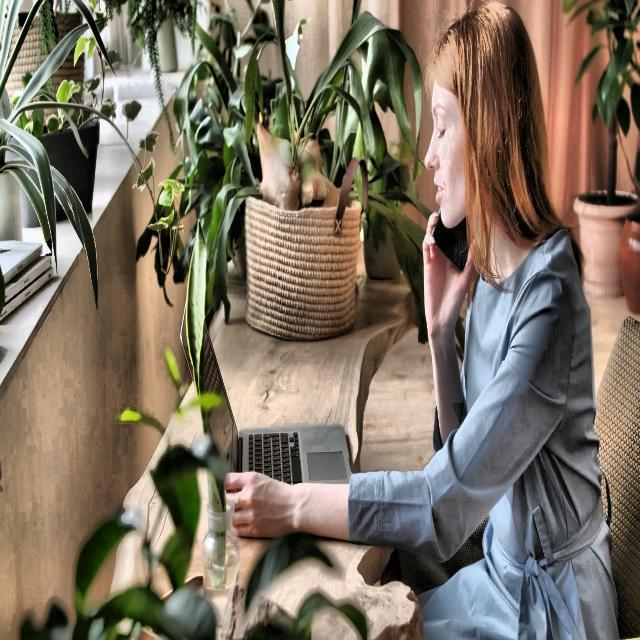Phone: (429, 204, 471, 275)
